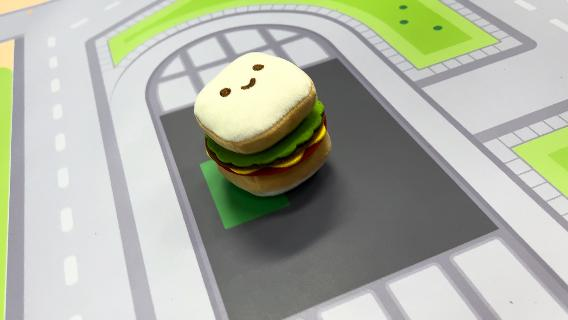sandwich: (192, 50, 334, 198)
